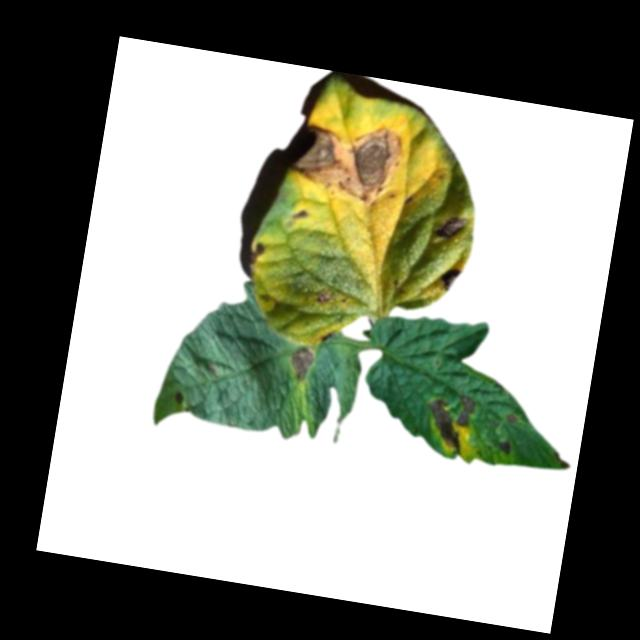Early_blight: (286, 113, 406, 207), (420, 395, 470, 457), (433, 214, 469, 244), (288, 347, 315, 383), (455, 394, 476, 430), (438, 266, 464, 294), (249, 243, 267, 268), (316, 288, 334, 306), (498, 439, 515, 457), (292, 208, 310, 221), (506, 414, 522, 426), (173, 391, 185, 405)
